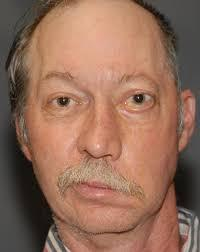strokeMouthWeak: (67, 173, 137, 201)
